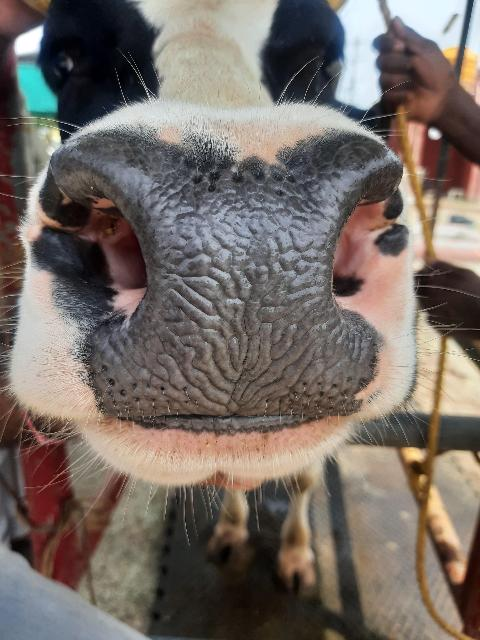Muzzle: (90, 151, 368, 419)
